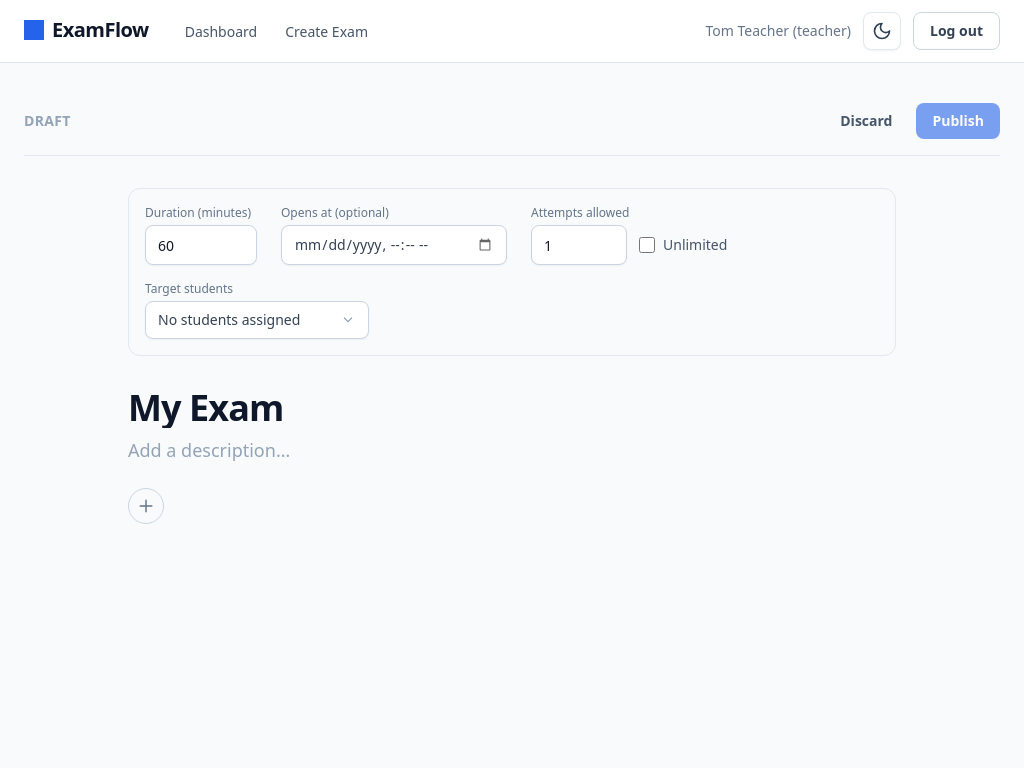
Test: exam editor (Medium-style) › assigns target students via the multi-select (select all)
Expected: the field showing "My Exam" is shown, [128,388,896,428]
What coordinates should you click on to do the following:
click the button named "target students"
I would click on:
 (257, 320)
Its box is [145,301,369,339].
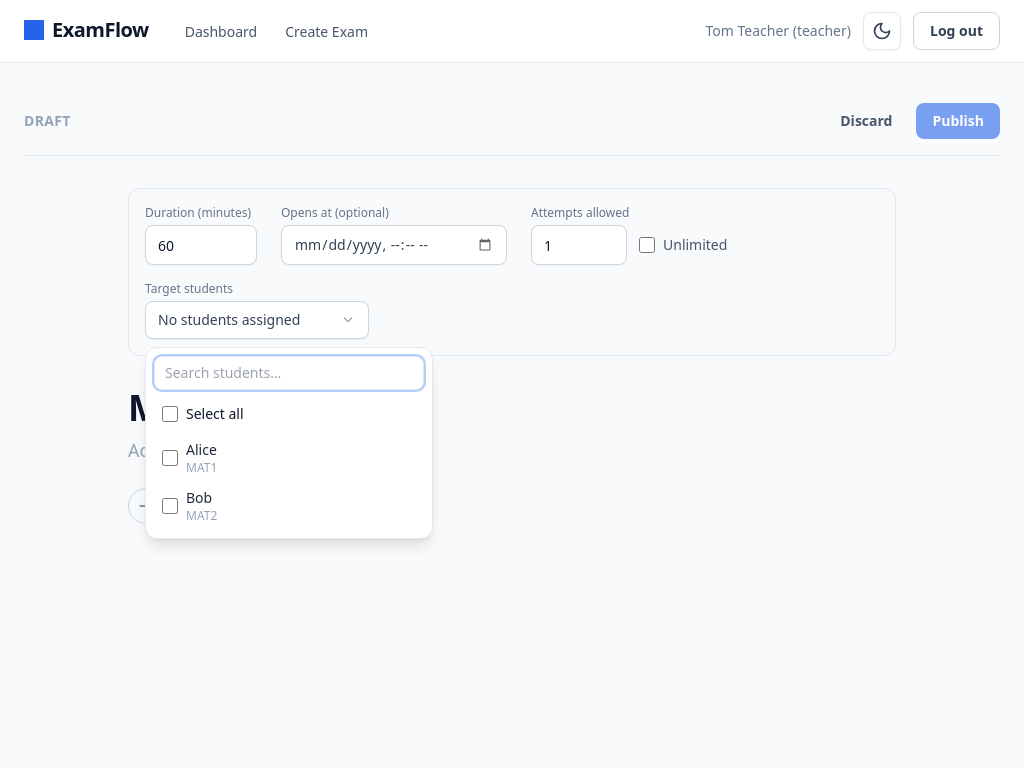
What coordinates should you click on to do the following:
click the checkbox labelled "Select all"
I would click on:
 (170, 414)
Its box is [162,406,178,422].
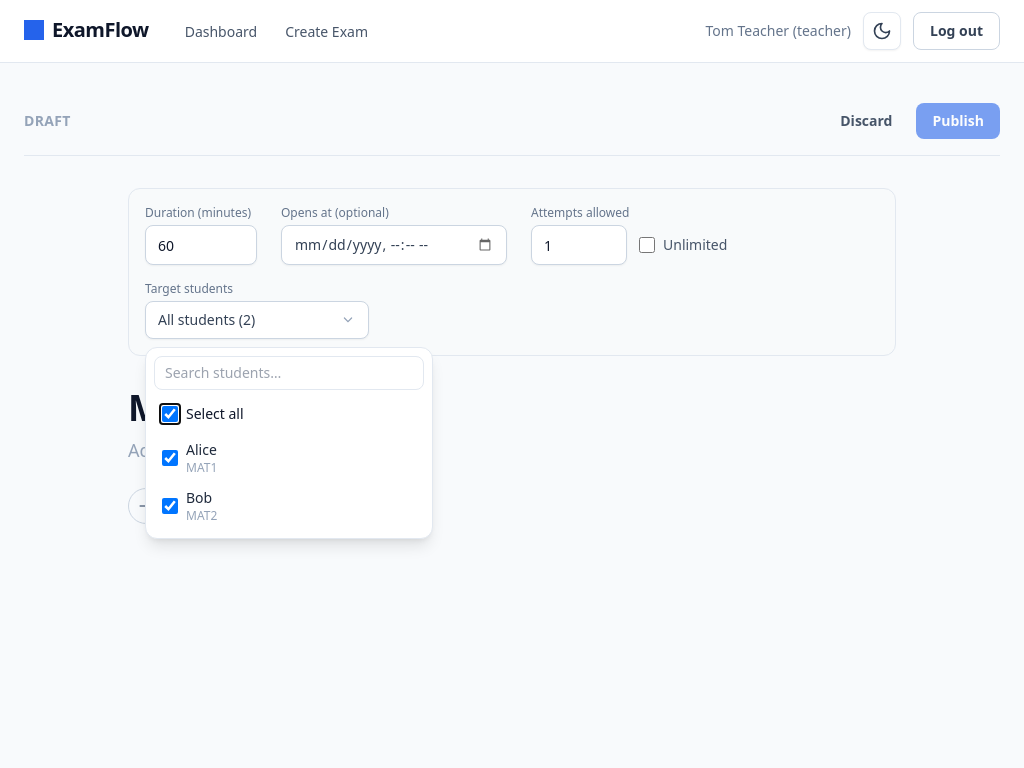
Expected: the text "All students (2)" is shown, [158,310,255,330]
